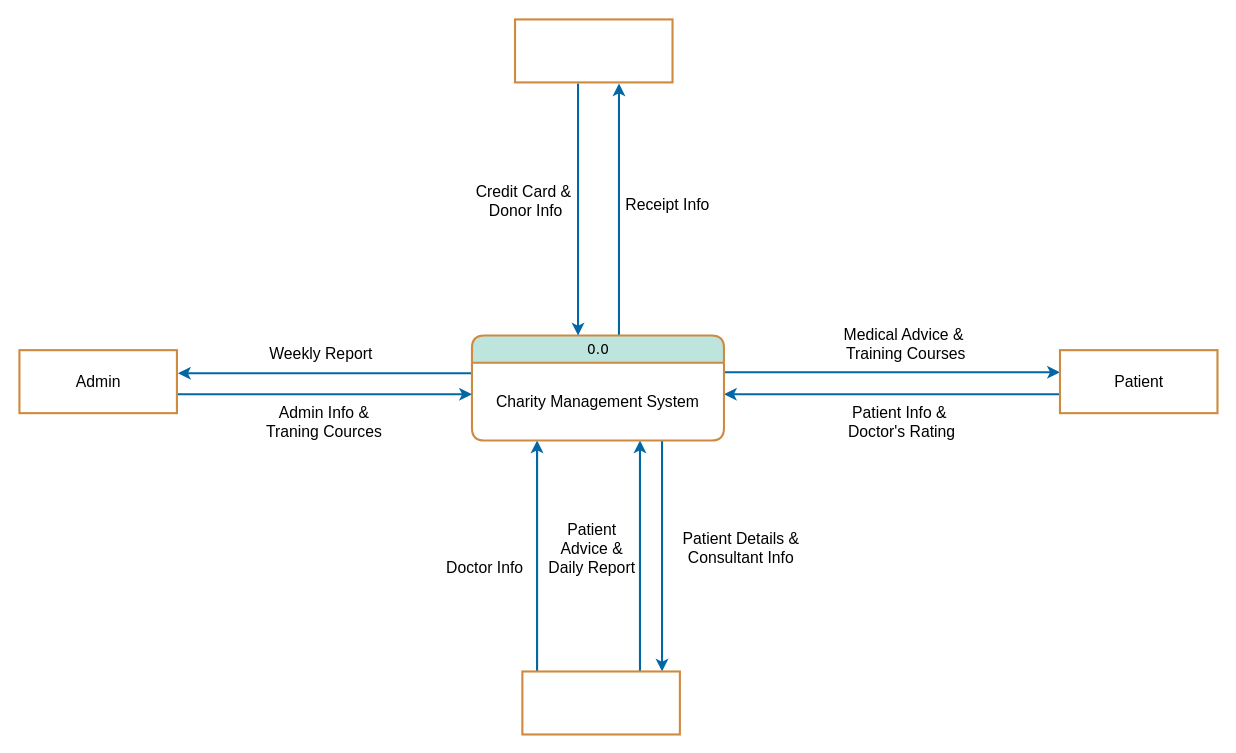
This 1236x753 diagram has some shape labels left out. The shapes that lost their labels are listed below. From the top down, each one's box as (x1, y1, x2, y2) in pixels, then its label:
(513, 18, 673, 83): Donor
(521, 670, 680, 735): Doctor
